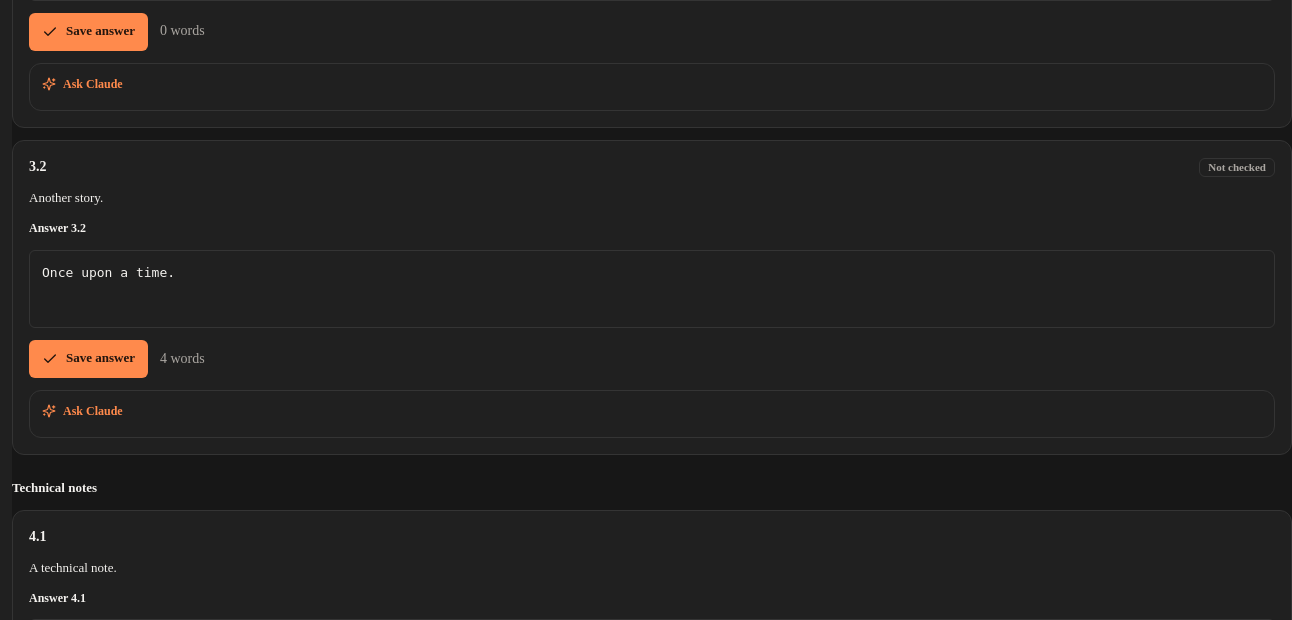
it: the unanswered filter hides answered entries and counts words live
(page scrolled)
Expected: the text "4 words" is shown, [160, 349, 205, 369]
Replace the text in the text box labelled "Answer 3.2" with "One two three" at (652, 289), box [29, 250, 1275, 328]
(page scrolled)
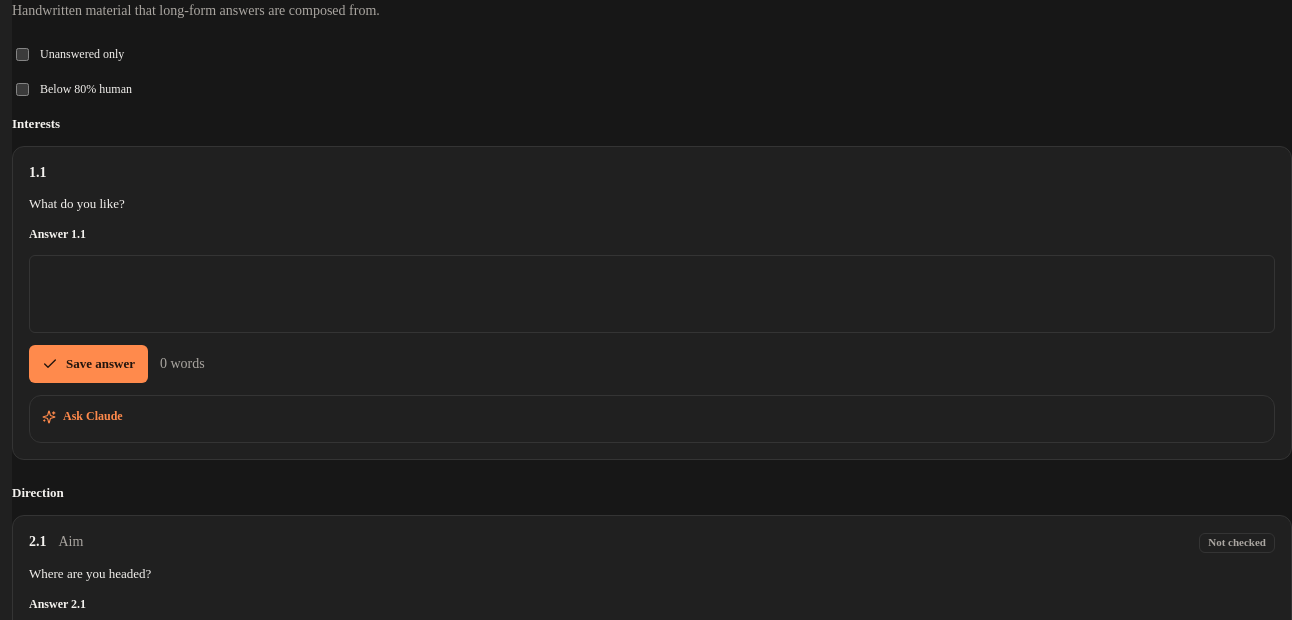
Click the checkbox labelled "Unanswered only" at (22, 54), box [16, 48, 29, 61]
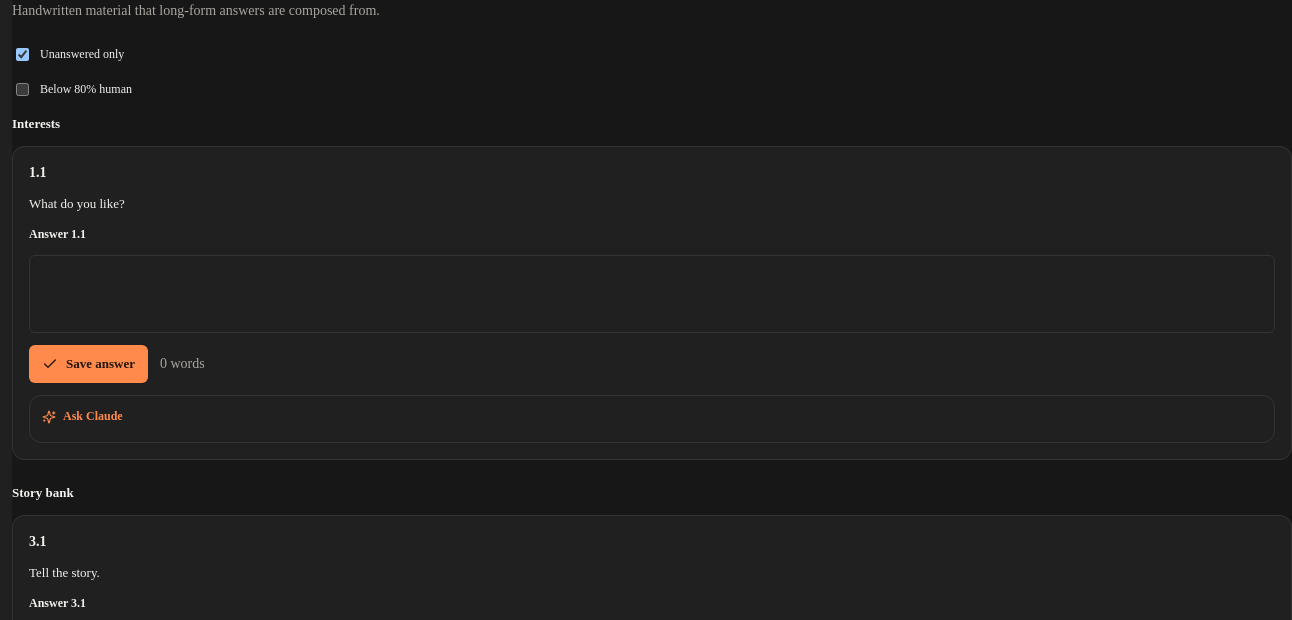
Now the text labelled "Answer 2.1" is gone
